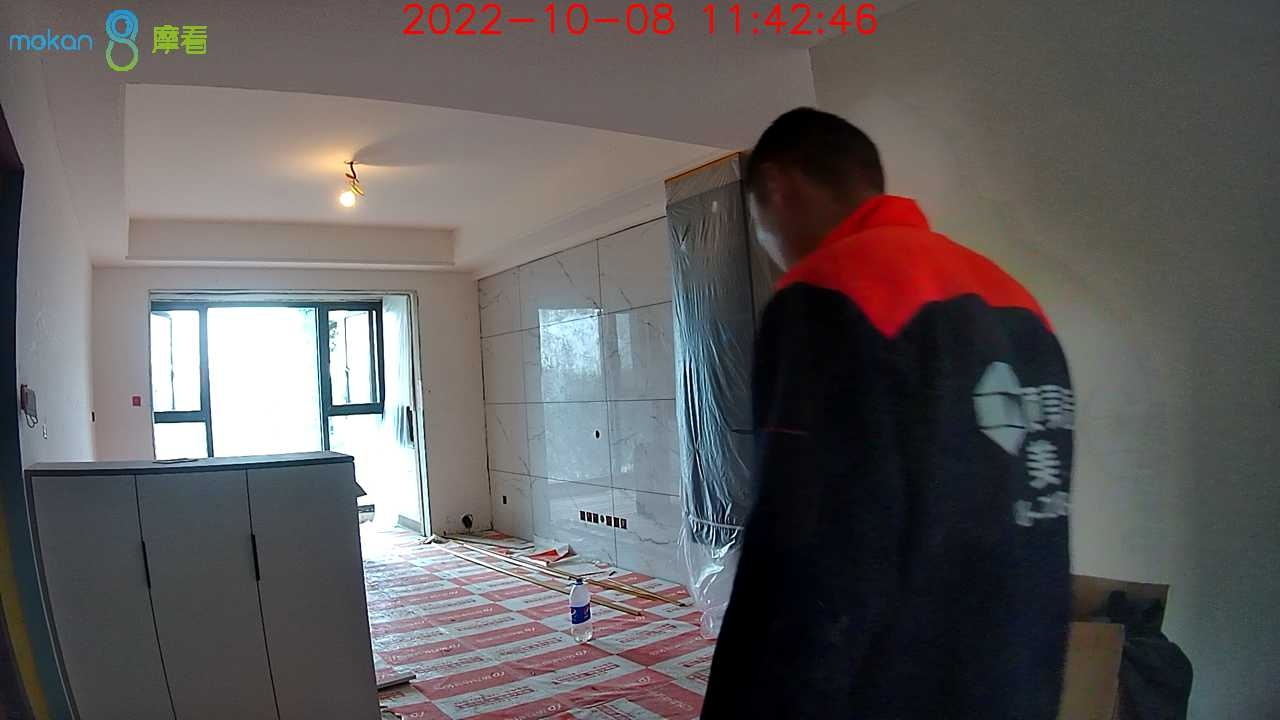people: (700, 107, 1074, 720)
window: (148, 298, 420, 524)
